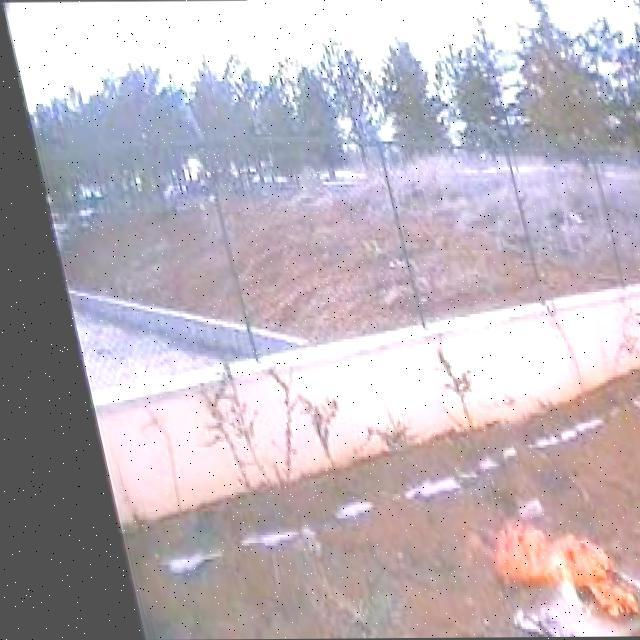Fire: (426, 472, 636, 622)
